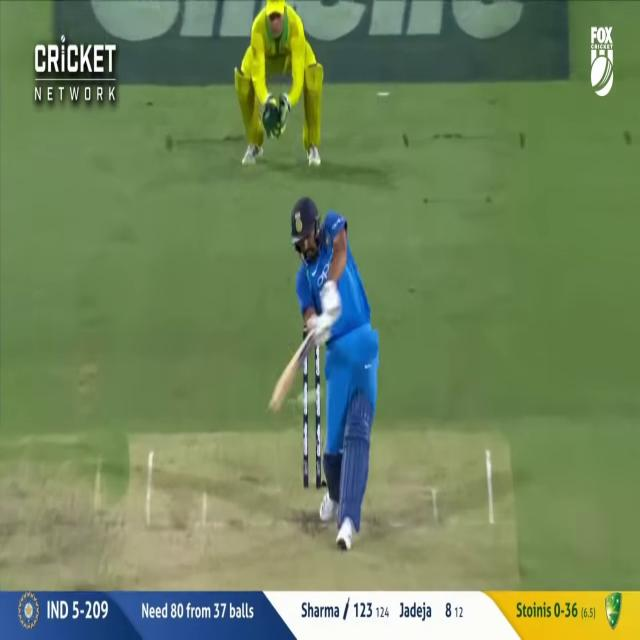stump: (315, 344, 321, 489), (303, 354, 309, 489), (302, 324, 308, 341)
